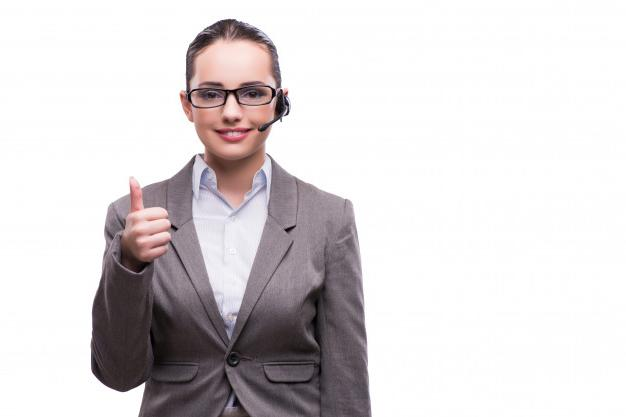thumbsup: (127, 176, 171, 260)
